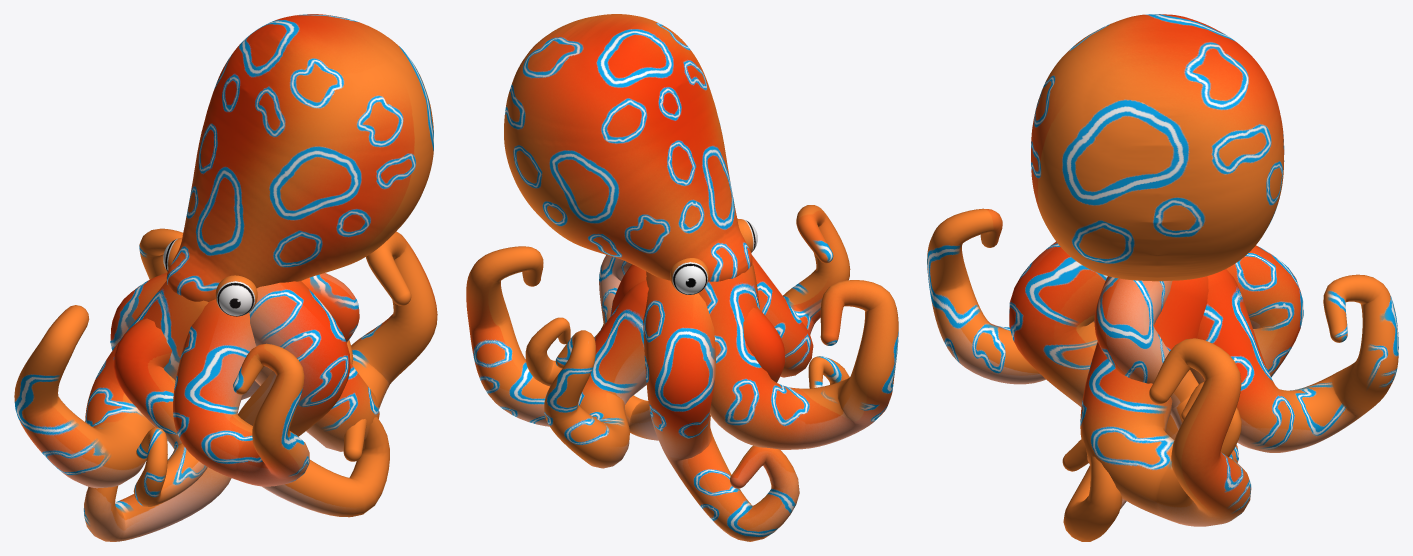
Rendered from blue-ringed-octopus.glb.
3 renders of one model, left to right at view 1: azimuth 30°, elevation 25°; view 2: azimuth 150°, elevation 25°; view 3: azimuth 270°, elevation 25°, orthographic. The views are drawn at different scales.
Visible parts, largest first — view 1: node_id77_13, node_id59_14, node_id69_15; view 2: node_id77_13, node_id69_15, node_id59_14; view 3: node_id77_13, node_id69_15, node_id59_14.
Boxes of the visible parts, box(x1,y1,x2,y2) form: node_id77_13: box(163, 14, 433, 316); node_id59_14: box(14, 273, 389, 517); node_id69_15: box(83, 228, 437, 541); node_id77_13: box(504, 14, 757, 294); node_id69_15: box(466, 246, 849, 541); node_id59_14: box(525, 205, 898, 449); node_id77_13: box(1031, 14, 1284, 281); node_id69_15: box(1080, 245, 1398, 526); node_id59_14: box(927, 208, 1241, 541).
Bounding box in the file's own units: 0.5615 × 0.6059 × 0.4815.
11 materials, 11 textured.
